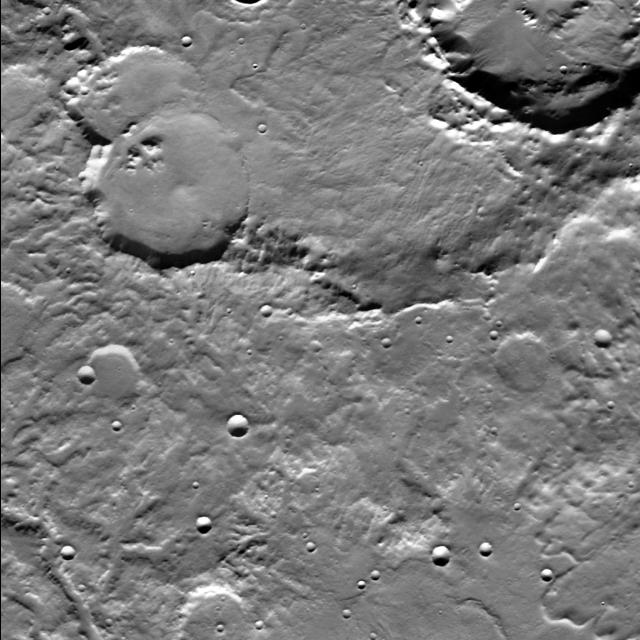crater: (148, 0, 640, 294), (83, 100, 245, 263), (70, 38, 205, 174), (172, 581, 249, 640), (0, 59, 53, 130), (80, 338, 138, 396), (491, 326, 549, 384), (223, 408, 246, 430), (428, 539, 448, 560), (73, 358, 93, 378), (590, 323, 608, 341), (192, 510, 210, 527), (57, 538, 72, 553), (476, 536, 490, 550), (258, 298, 270, 310), (538, 563, 550, 575), (366, 562, 377, 574), (306, 334, 318, 344), (180, 29, 190, 40), (302, 535, 312, 545), (254, 117, 264, 127), (486, 324, 496, 334), (378, 330, 388, 340), (251, 614, 261, 624), (76, 78, 86, 88), (474, 200, 484, 210), (108, 413, 117, 422), (479, 305, 488, 314), (353, 574, 362, 582), (215, 617, 223, 625), (557, 58, 565, 66), (419, 317, 427, 325), (604, 394, 612, 402), (494, 428, 502, 436), (518, 502, 526, 510), (40, 0, 48, 8), (74, 577, 82, 585), (101, 612, 109, 620), (341, 603, 348, 611), (450, 336, 457, 343), (196, 482, 203, 489), (374, 634, 381, 640)
